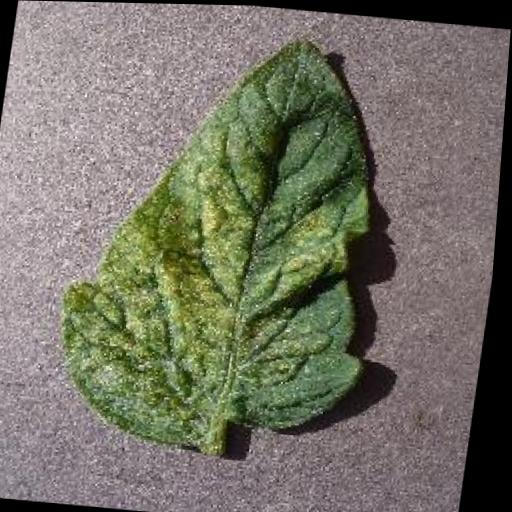Spider Mites: (52, 16, 409, 460)
